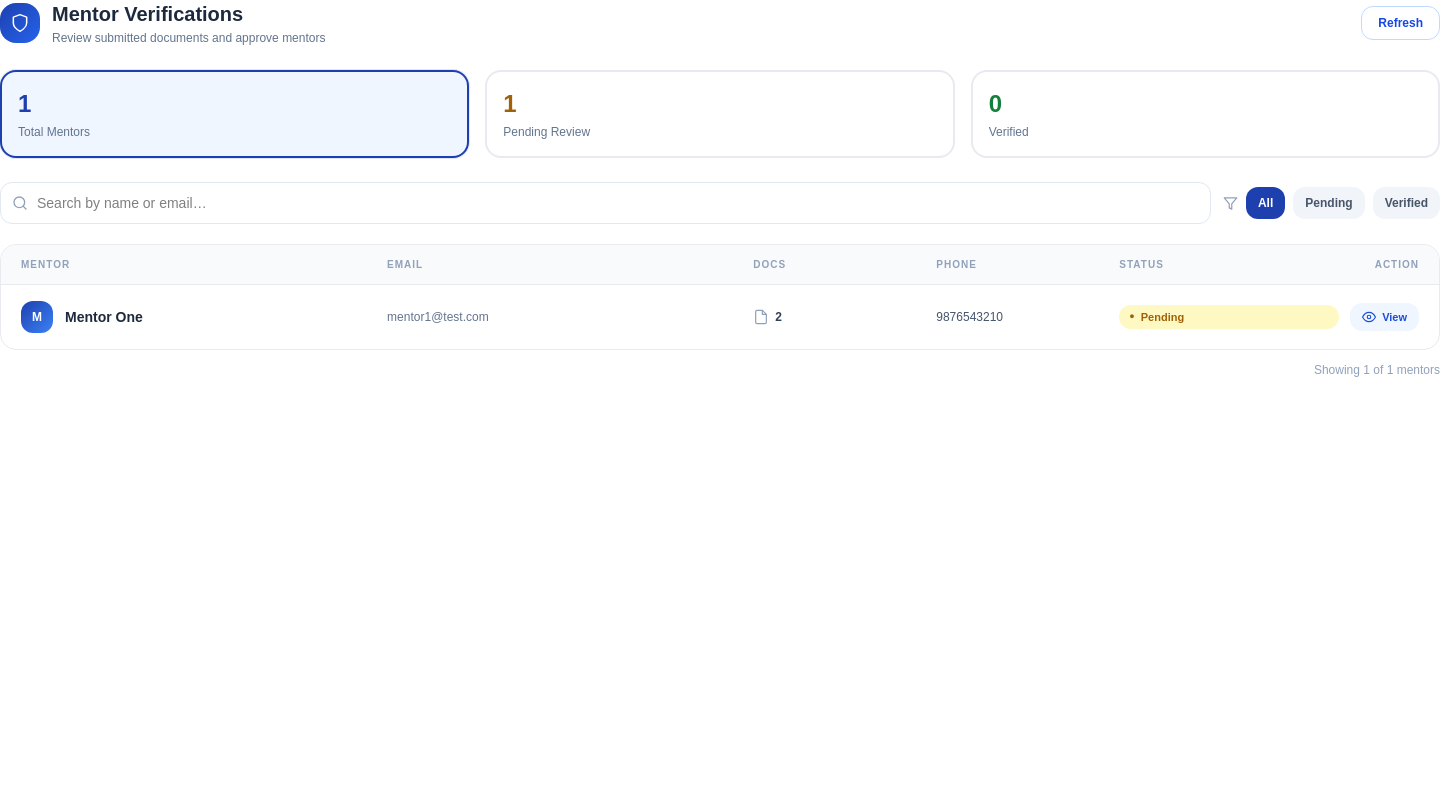
Scenario: AdminVerifications › DetailDrawer › opens with full mentor details and displays uploaded documents safely
Triggers line 190 (DocCard onError image layout state branch recovery)
Click the button "View" at coordinates (1385, 317), box [1350,303,1419,331]
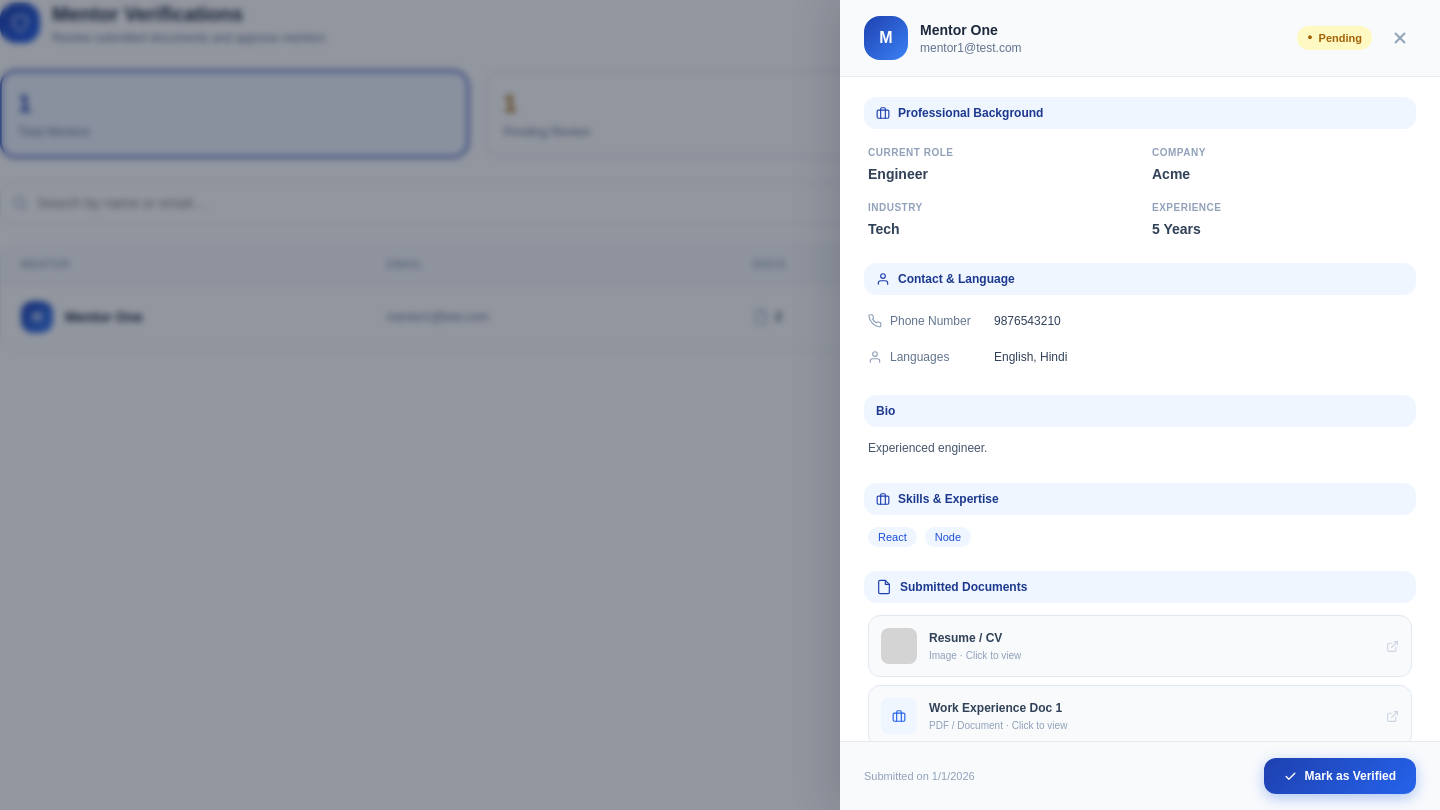
Check: the text "Engineer" is shown, box [868,166,928,182]
Check: the text "Acme" is shown, box [1152,166,1190,182]
Check: the text "Tech" is shown, box [868,221,900,237]
